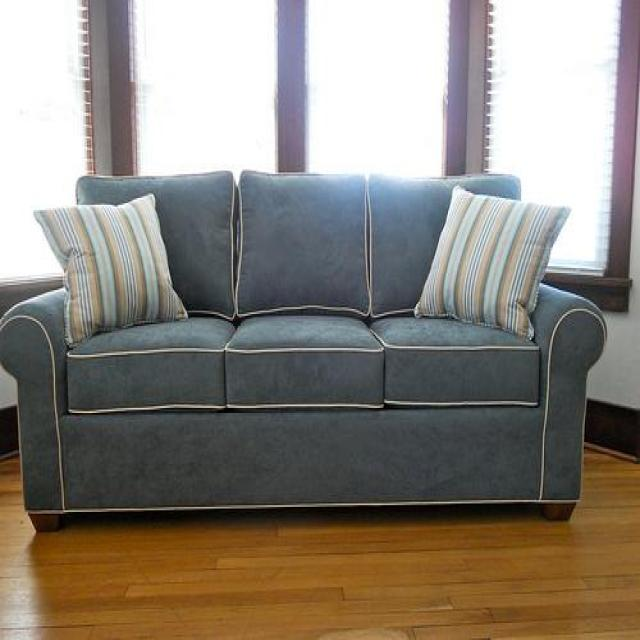sofa: (0, 168, 607, 532)
